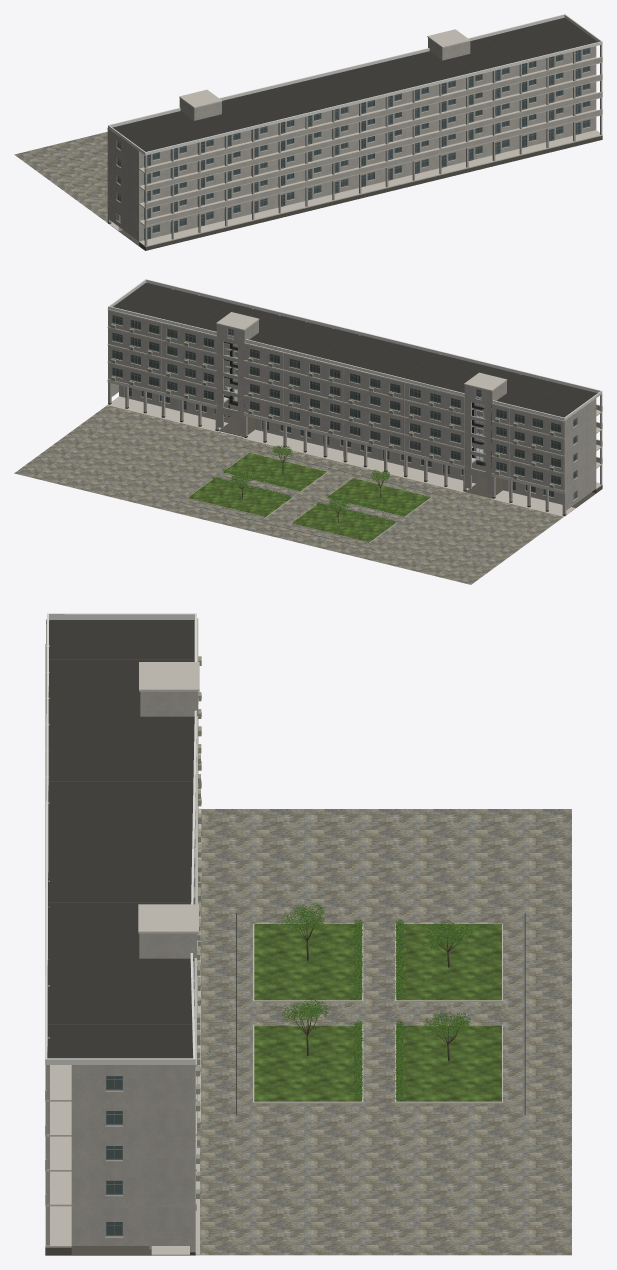
Rendered from erhao.glb.
3 views of the same model, one above another, from view 1: azimuth 30°, elevation 25°; view 2: azimuth 150°, elevation 25°; view 3: azimuth 270°, elevation 25° (orthographic). The views are drawn at different scales.
Parts seen in each view (by area): view 1: erhao.rear_gallery, erhao.roof, erhao.court_surface, erhao.link_heads; view 2: erhao.court_surface, erhao.roof, erhao.classrooms, erhao.courtyard_garden, erhao.undercroft, erhao.link_heads, erhao.rear_gallery, erhao.cooling_and_drains; view 3: erhao.court_surface, erhao.roof, erhao.courtyard_garden, erhao.rear_gallery, erhao.link_heads, erhao.cooling_and_drains, erhao.undercroft.
Part boxes in pixels (<box>): erhao.rear_gallery: <box>107,44,602,250</box>; erhao.roof: <box>107,14,602,250</box>; erhao.court_surface: <box>14,132,107,222</box>; erhao.link_heads: <box>179,29,470,120</box>; erhao.court_surface: <box>14,405,563,584</box>; erhao.roof: <box>107,279,602,514</box>; erhao.classrooms: <box>108,310,564,490</box>; erhao.courtyard_garden: <box>169,445,447,550</box>; erhao.undercroft: <box>107,380,575,516</box>; erhao.link_heads: <box>216,312,507,493</box>; erhao.rear_gallery: <box>111,282,602,510</box>; erhao.cooling_and_drains: <box>110,324,563,510</box>; erhao.court_surface: <box>197,809,571,1255</box>; erhao.roof: <box>45,613,198,1255</box>; erhao.courtyard_garden: <box>236,902,525,1114</box>; erhao.rear_gallery: <box>45,619,195,1254</box>; erhao.link_heads: <box>138,662,199,970</box>; erhao.cooling_and_drains: <box>195,656,201,1198</box>; erhao.undercroft: <box>149,808,201,1255</box>.
Size of the model in its own units: 92.98 by 21.36 by 46.4.
21 materials, 3 textured.
